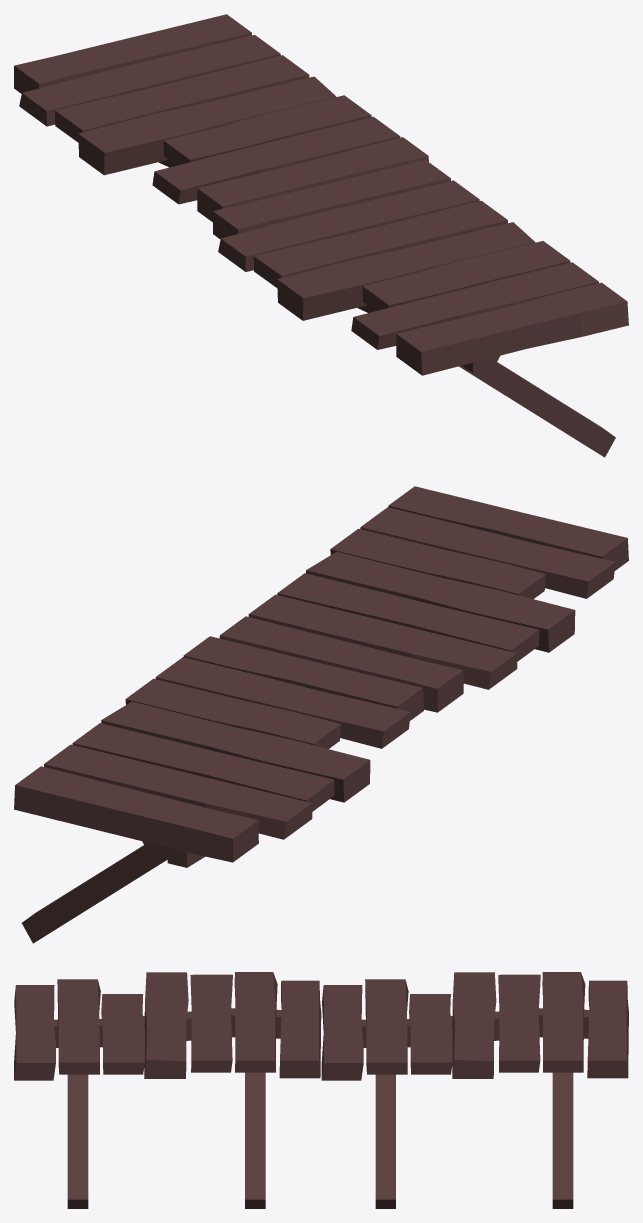
File: DarkRoseWoodFloorLargePlatform1.fbx
The picture shows the model from 3 angles, top to bottom: view 1: azimuth 30°, elevation 25°; view 2: azimuth 150°, elevation 25°; view 3: azimuth 270°, elevation 25°; orthographic projection. The views are drawn at different scales.
Visible parts, largest first — view 1: DarkRoseWoodFloorMediumPlatform3; view 2: DarkRoseWoodFloorMediumPlatform3; view 3: DarkRoseWoodFloorMediumPlatform3.
Boxes of the visible parts, box(x1,y1,x2,y2) form: DarkRoseWoodFloorMediumPlatform3: box(14, 14, 628, 457); DarkRoseWoodFloorMediumPlatform3: box(14, 486, 628, 943); DarkRoseWoodFloorMediumPlatform3: box(14, 972, 628, 1208).
Size of the model in its own units: 483 by 322 by 1267.
1 material, 1 textured.
